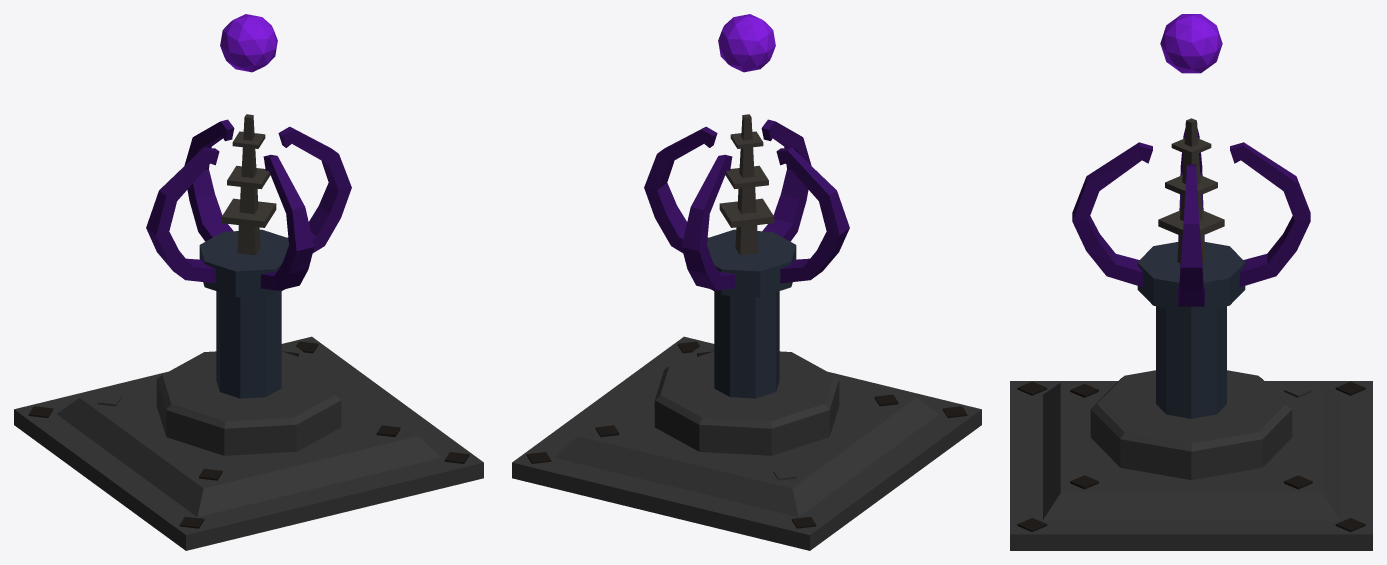
The model's file is Lighting Turret.glb.
The picture shows the model from 3 angles, left to right: view 1: azimuth 30°, elevation 25°; view 2: azimuth 150°, elevation 25°; view 3: azimuth 270°, elevation 25°; orthographic projection. The views are drawn at different scales.
Visible parts, largest first — view 1: BaseLightingTurret1, MiddleLightingTurret1, GunLightingTurret1, BallLightingTurret1; view 2: BaseLightingTurret1, MiddleLightingTurret1, GunLightingTurret1, BallLightingTurret1; view 3: BaseLightingTurret1, MiddleLightingTurret1, BallLightingTurret1, GunLightingTurret1.
Part boxes in pixels (box(x1,y1,x2,y2)): BaseLightingTurret1: box(14, 336, 483, 550); MiddleLightingTurret1: box(146, 119, 351, 398); GunLightingTurret1: box(221, 114, 276, 255); BallLightingTurret1: box(220, 14, 277, 72); BaseLightingTurret1: box(512, 336, 981, 550); MiddleLightingTurret1: box(644, 119, 849, 398); GunLightingTurret1: box(719, 114, 774, 255); BallLightingTurret1: box(718, 14, 775, 72); BaseLightingTurret1: box(1010, 370, 1372, 550); MiddleLightingTurret1: box(1072, 129, 1310, 418); BallLightingTurret1: box(1160, 14, 1222, 73); GunLightingTurret1: box(1158, 118, 1224, 263).
Size of the model in its own units: 3.53 by 4.93 by 3.53.
